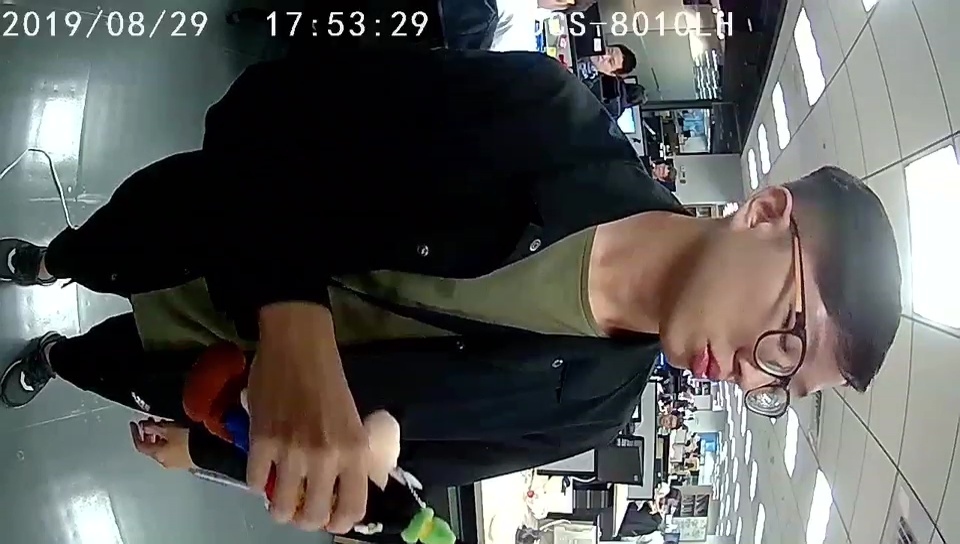goofy: (188, 345, 455, 544)
